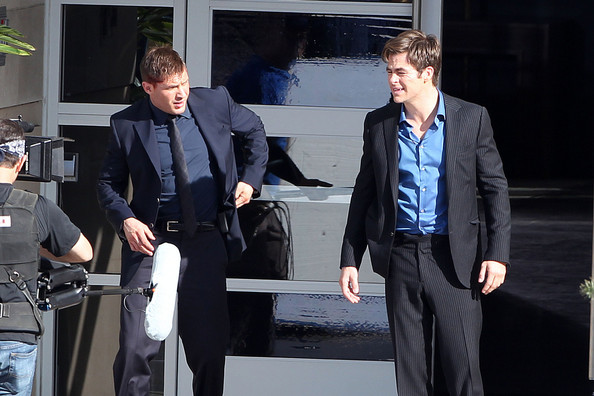Person: (339, 29, 510, 396), (95, 47, 269, 396)
